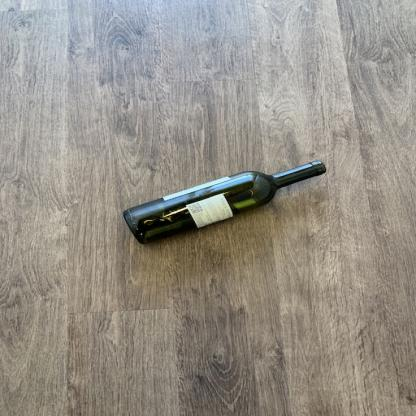trash: (120, 161, 330, 245)
